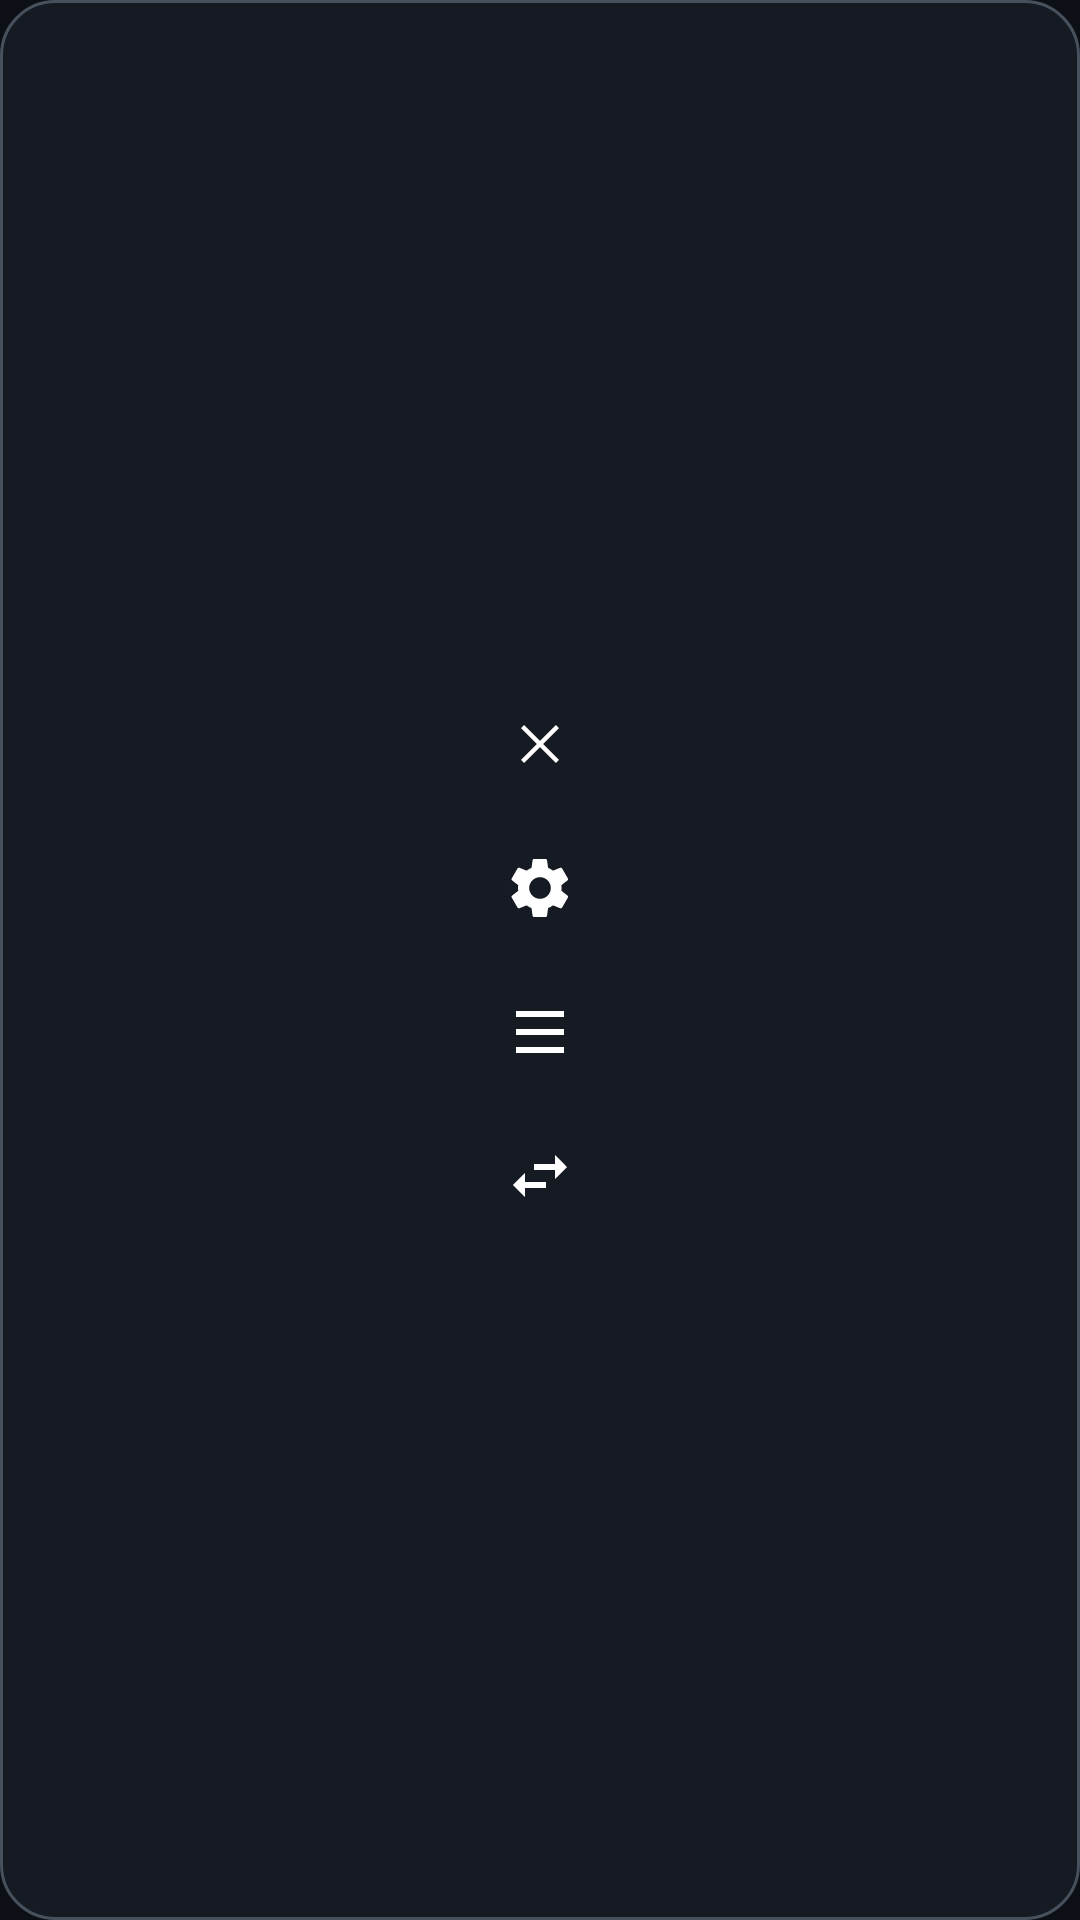

Icon bounding boxes for this 1080 x 1920 phone screenshot, format rect(x1, y1, x2, y2):
Close overlay: rect(521, 725, 559, 763)
Open settings: rect(511, 859, 568, 917)
Open tasks: rect(516, 1011, 564, 1053)
